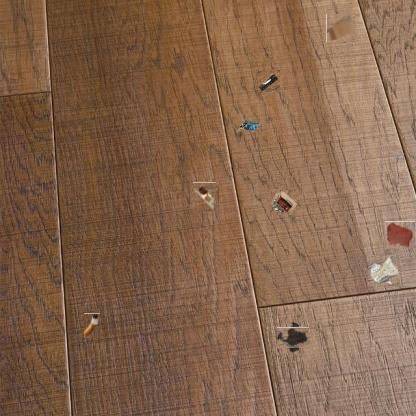dirty: (368, 254, 400, 286), (327, 14, 355, 43), (267, 189, 297, 215), (191, 184, 218, 210), (258, 70, 280, 92), (84, 313, 100, 338), (235, 119, 261, 133)
liquid: (386, 221, 415, 249), (280, 325, 307, 351)
